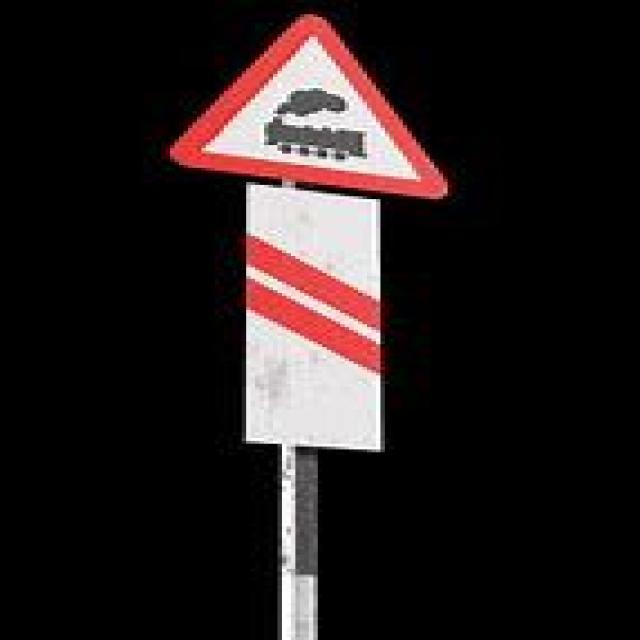unguarded level crossing: (154, 12, 472, 203)
